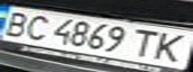4: (45, 16, 75, 46)
6: (84, 20, 109, 52)
8: (66, 18, 93, 48)
9: (103, 22, 133, 55)
B: (0, 8, 36, 38)
C: (15, 11, 54, 42)
K: (145, 29, 193, 64)
T: (127, 26, 163, 59)
